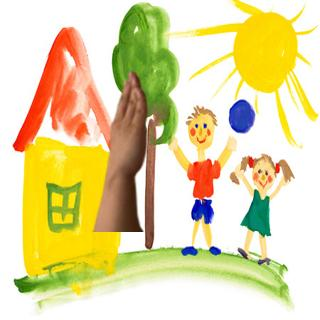RIGHT: (100, 68, 150, 185)
